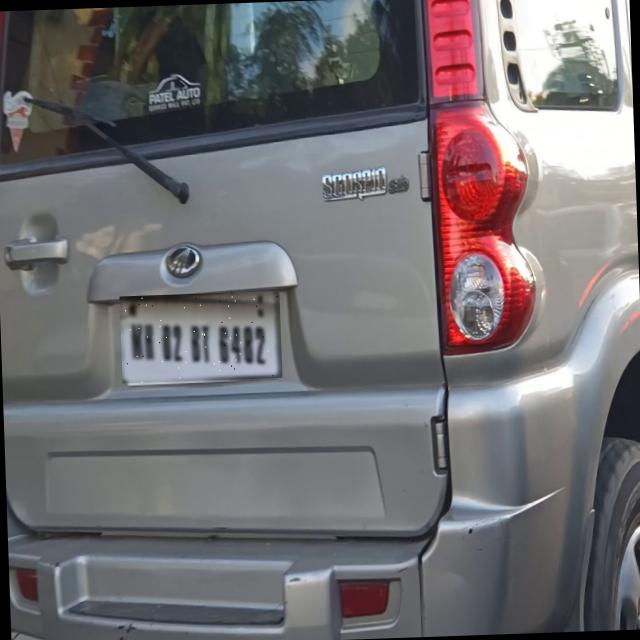Plate: (120, 292, 283, 386)
